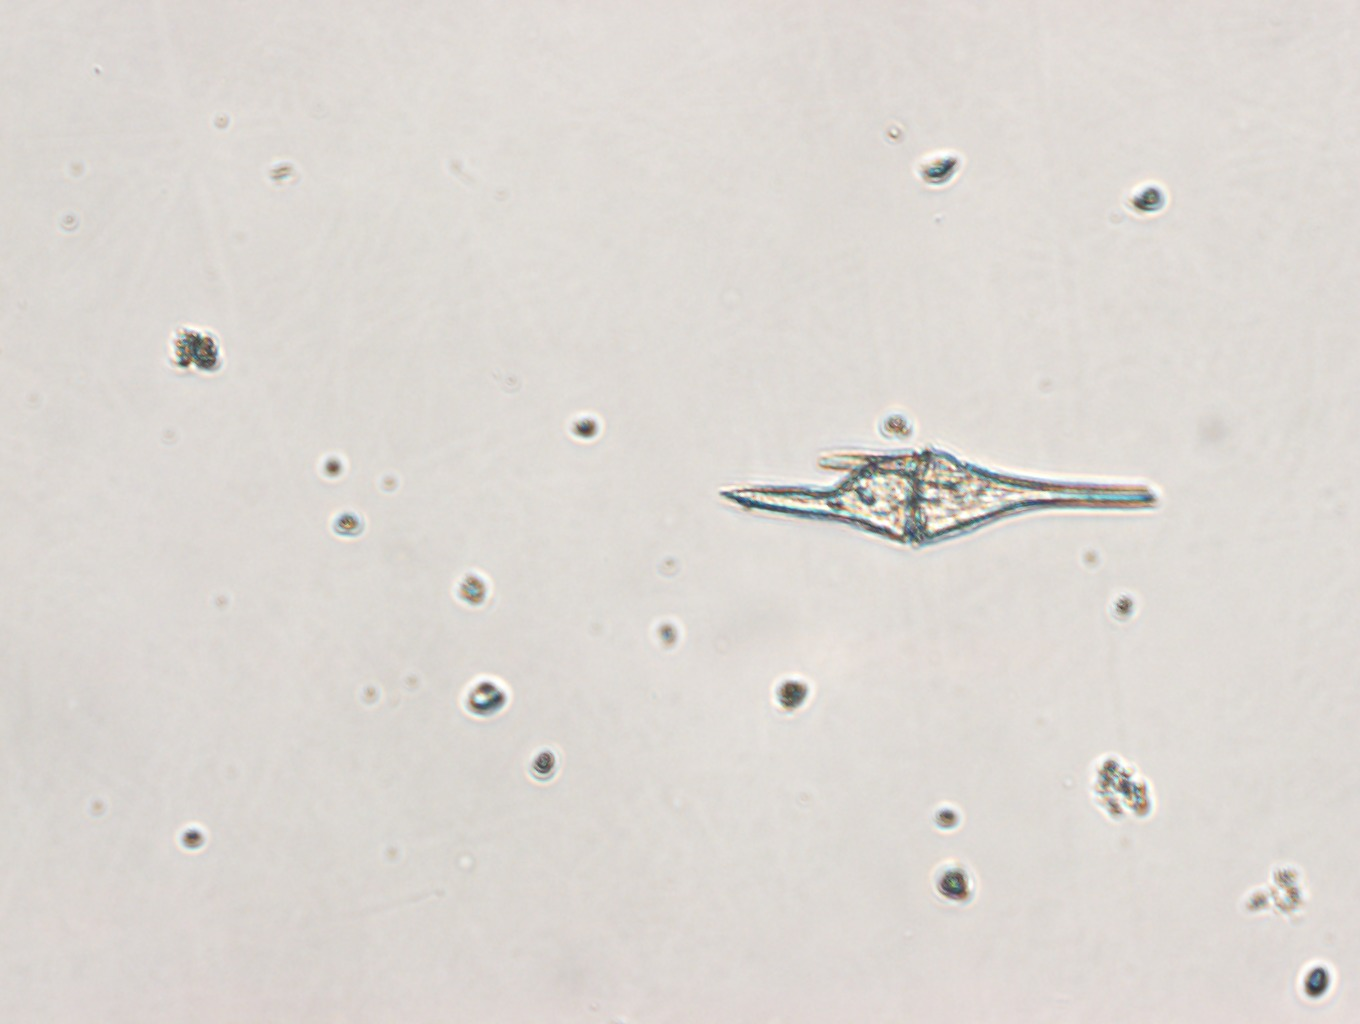ceratium furca: (711, 443, 1161, 554)
